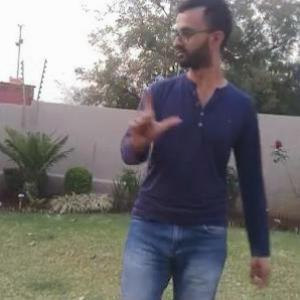land_hand: (125, 82, 185, 154)
